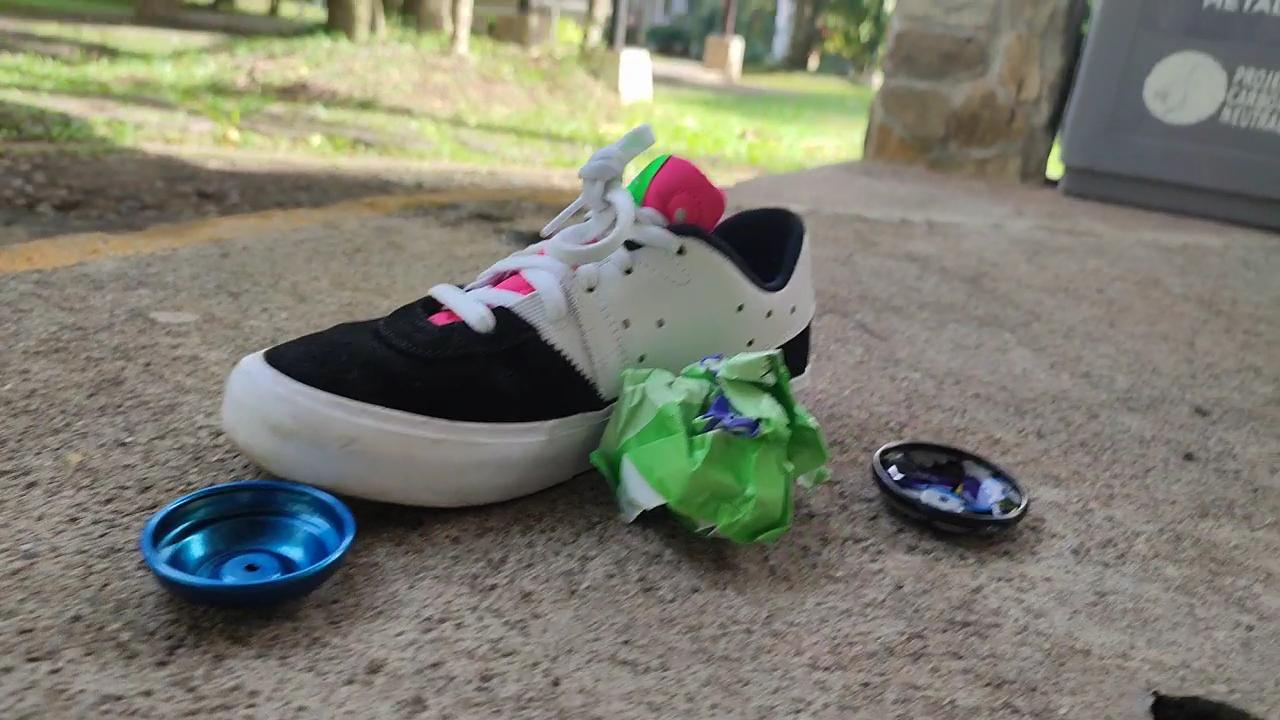Paper: (583, 334, 835, 552)
